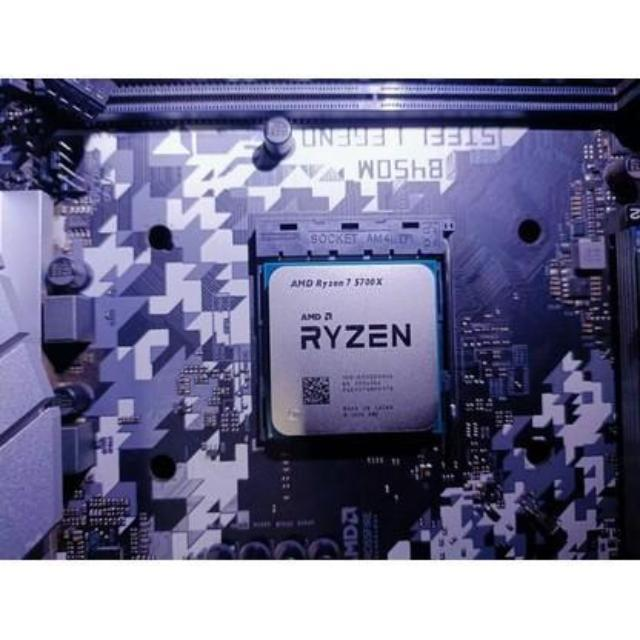CPU: (260, 262, 448, 442)
